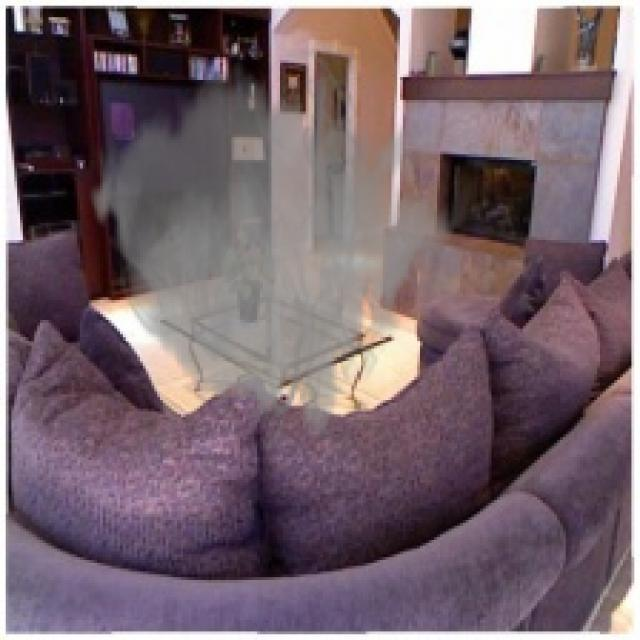Smoke: (89, 28, 458, 454)
